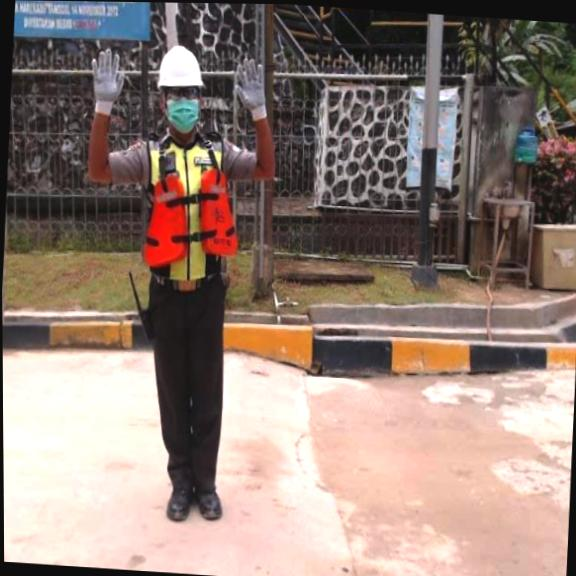safety_vest: (140, 160, 243, 273)
